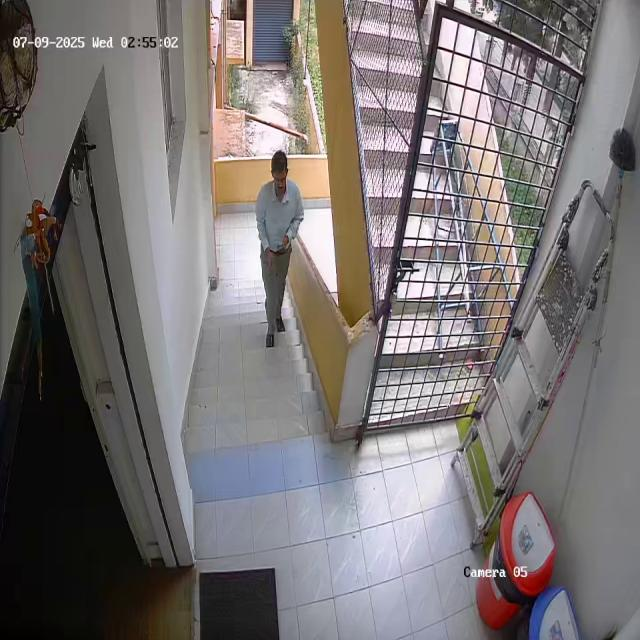person: (252, 150, 303, 348)
